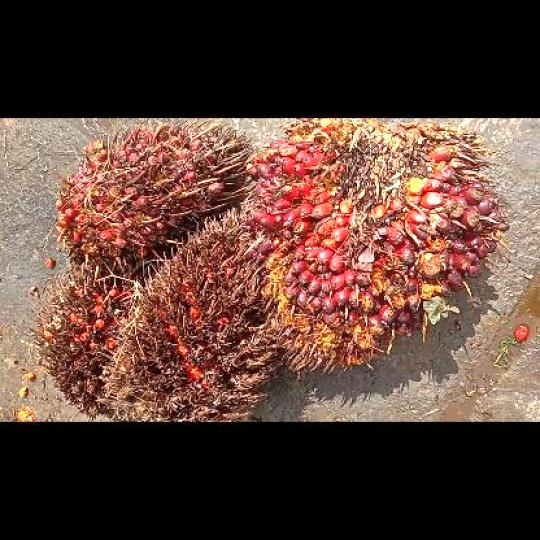masak: (242, 118, 508, 373), (54, 117, 254, 272)
terlalu masak: (103, 207, 284, 421), (26, 265, 139, 420)
